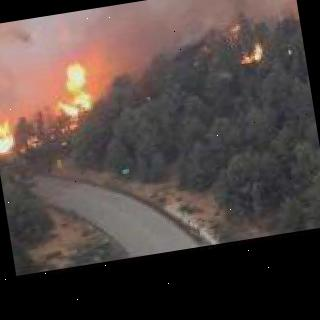fire: (0, 0, 300, 68), (44, 59, 103, 126), (0, 109, 30, 161), (238, 44, 268, 66)
